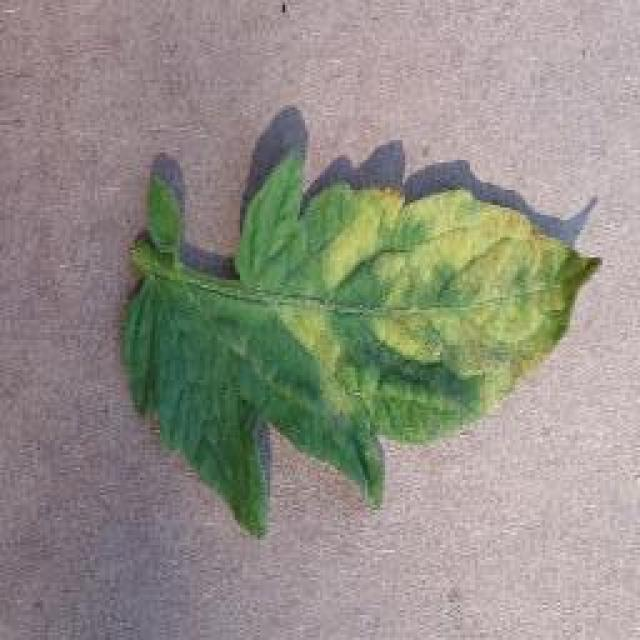Tomato mold leaf: (120, 146, 605, 534)
